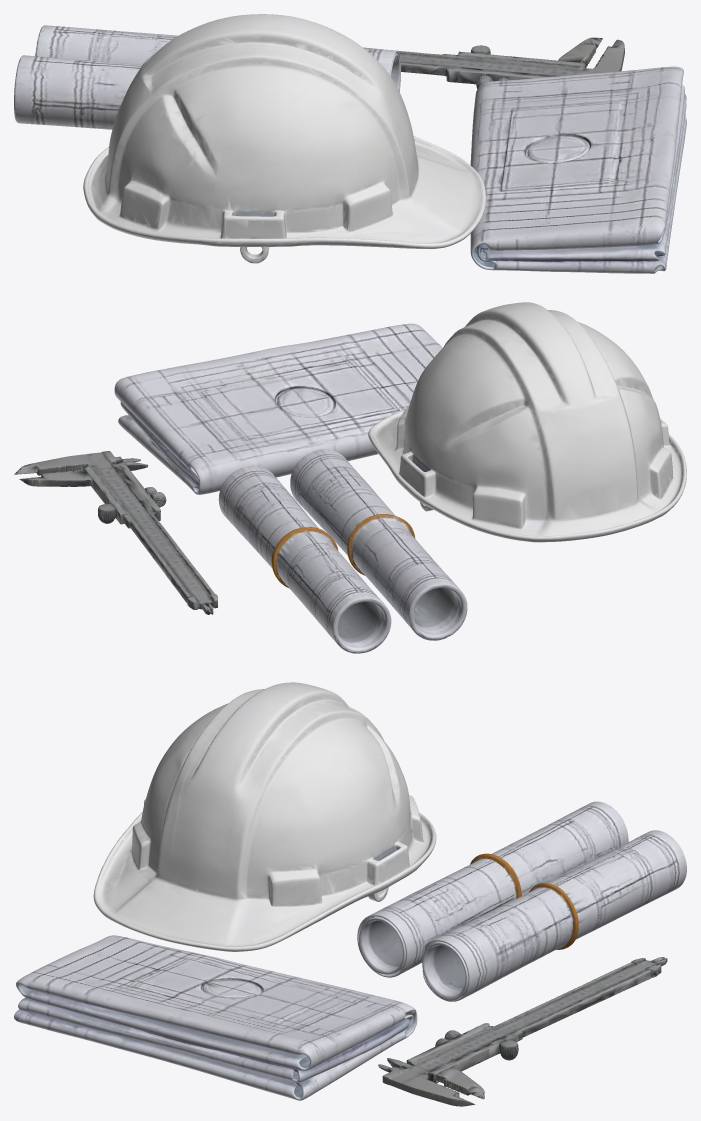
File: bench.glb
The picture shows the model from 3 angles, top to bottom: view 1: azimuth 30°, elevation 25°; view 2: azimuth 150°, elevation 25°; view 3: azimuth 270°, elevation 25°; orthographic projection. The views are drawn at different scales.
Visible parts, largest first — view 1: tripo_node_ed56d8e0-729a-4f41-85f6-e0f7c12fb3d4; view 2: tripo_node_ed56d8e0-729a-4f41-85f6-e0f7c12fb3d4; view 3: tripo_node_ed56d8e0-729a-4f41-85f6-e0f7c12fb3d4.
Part boxes in pixels (x1=…): tripo_node_ed56d8e0-729a-4f41-85f6-e0f7c12fb3d4: x1=14, y1=14, x2=686, y2=273; tripo_node_ed56d8e0-729a-4f41-85f6-e0f7c12fb3d4: x1=14, y1=302, x2=686, y2=653; tripo_node_ed56d8e0-729a-4f41-85f6-e0f7c12fb3d4: x1=14, y1=682, x2=686, y2=1106.
Bounding box in the file's own units: 33971 × 11574 × 33991.
Materials: 1 (1 with a texture image).
